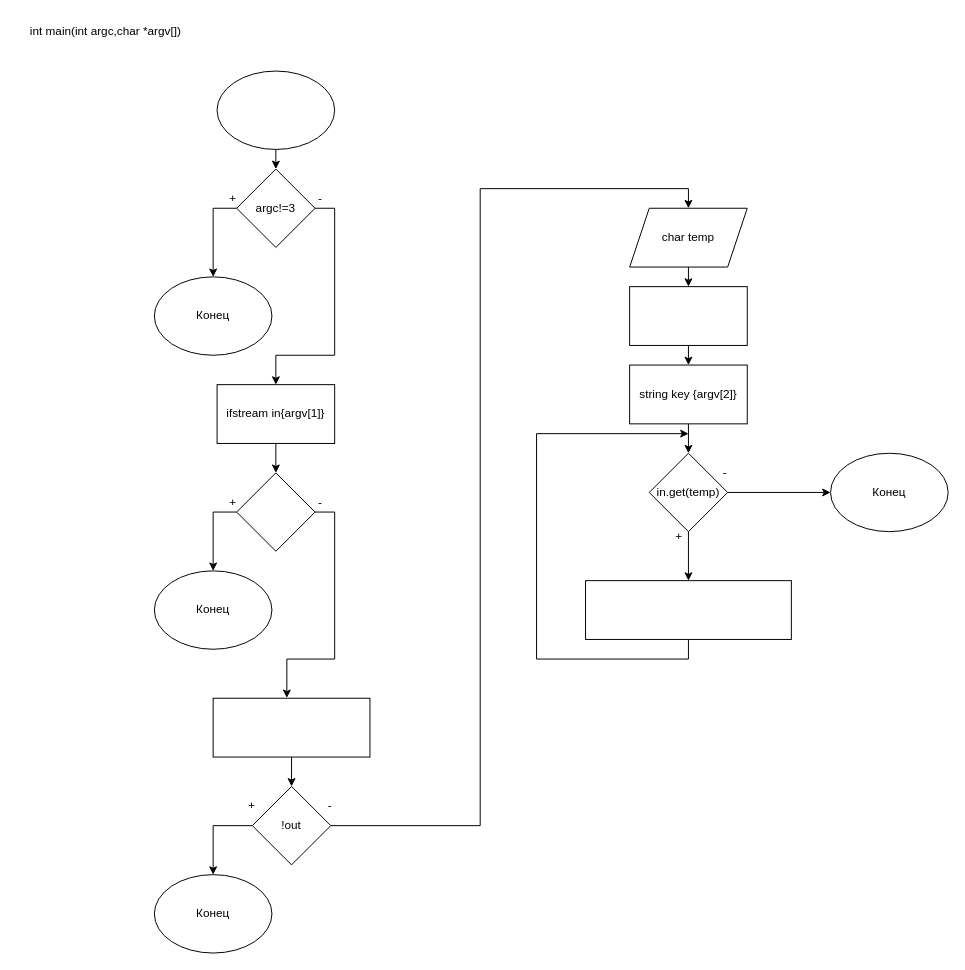
Some shapes in this 965 by 970 pixel diagram are drawn without their labels. The centre of each missing label's shape, as x and y in pixels:
!in: the point at 275,511
int counter{0}: the point at 688,315
ofstream out{"result2.txt"}: the point at 291,727
out<<encrypt(temp,counter,key): the point at 688,609
Начало: the point at 275,109
